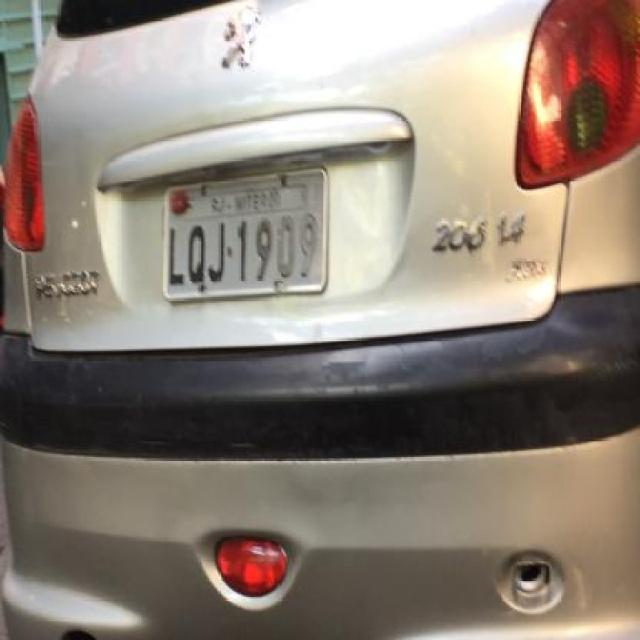old_plate: (158, 162, 337, 306)
